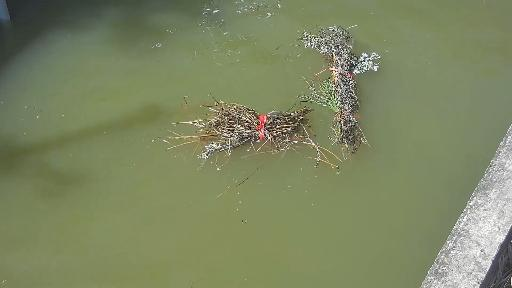twig: (308, 28, 375, 168), (178, 96, 325, 157)
